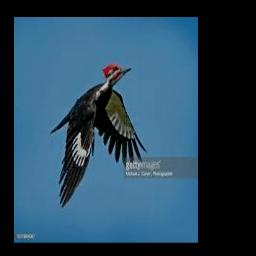Woodpecker: (50, 64, 147, 208)
